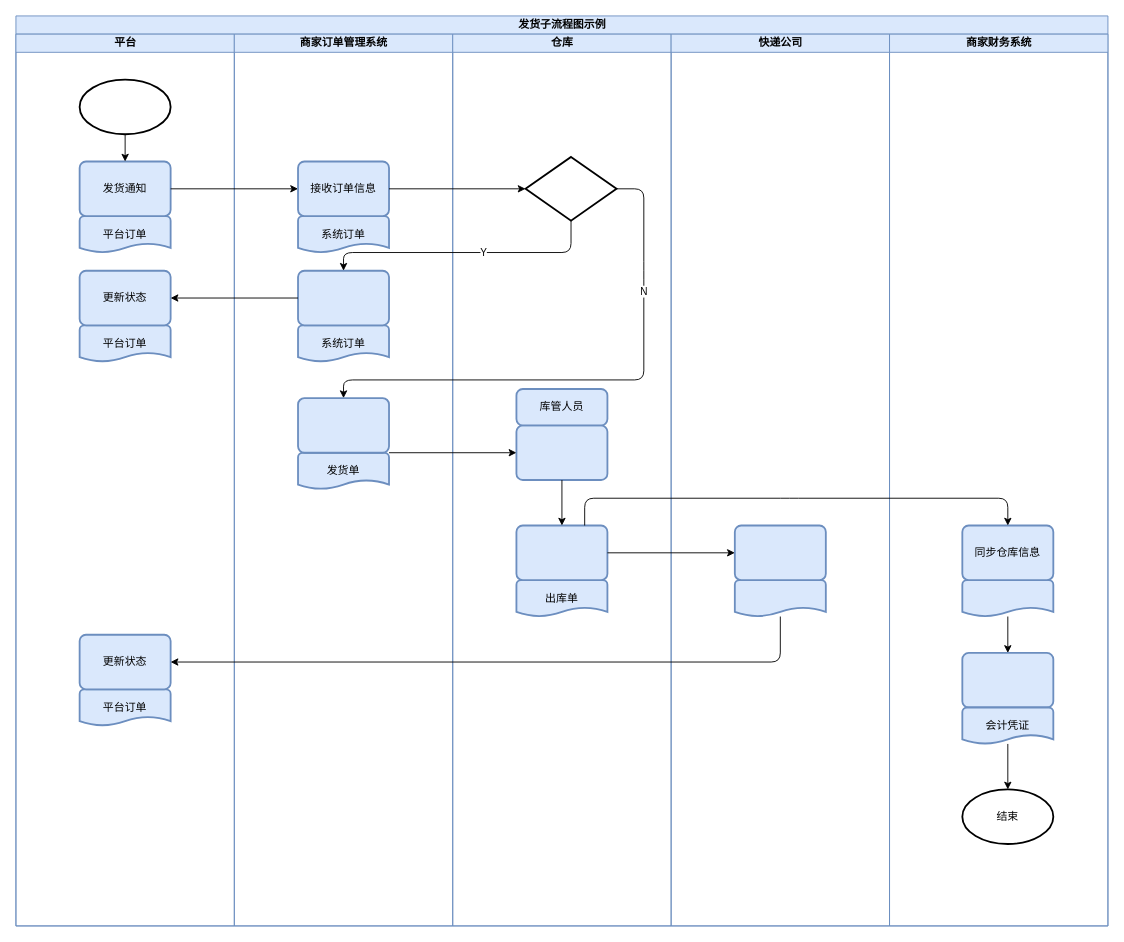
The diagram is 1124 pixels wide and 942 high, and some of its shapes have lost their labels. The centre of each missing label's shape, as x and y in pixels:
"仓库出库" belongs at (561,552).
"发出商品清单" belongs at (1007,598).
"发货申请" belongs at (343,425).
"开始" belongs at (124,106).
"快递粘单" belongs at (779,552).
"打包装箱" belongs at (561,452).
"是否超过库存" belongs at (570,188).
"暂缓发货" belongs at (343,297).
"物流订单" belongs at (779,598).
"生成 发出商品凭证" belongs at (1007,680).
